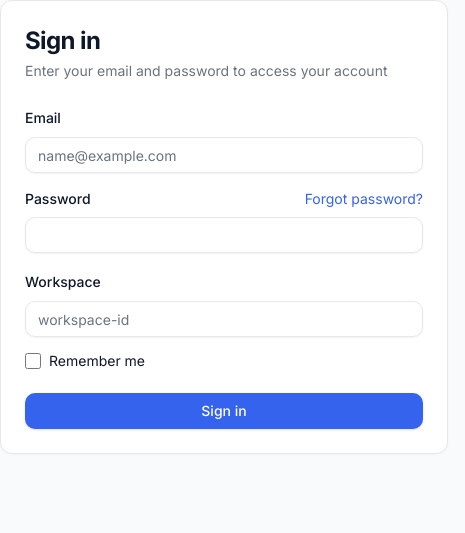
Test: LoginForm › accessibility › should render error alert with role="alert"
Type "test@example.com" into the field labelled "Email".
click(224, 155); type("test@example.com")  # box [25,137,423,173]
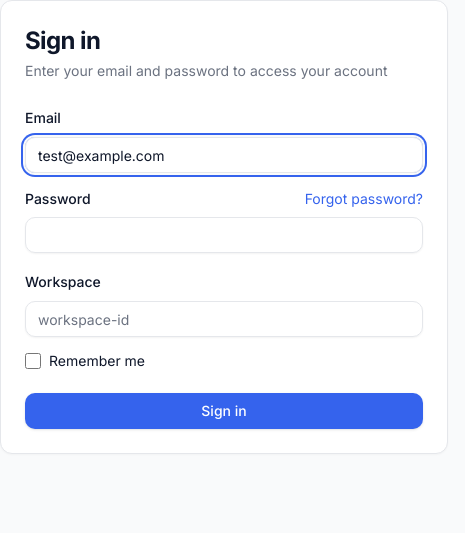
Type "password" into the password field labelled "Password".
click(224, 235); type("password")  # box [25,217,423,253]
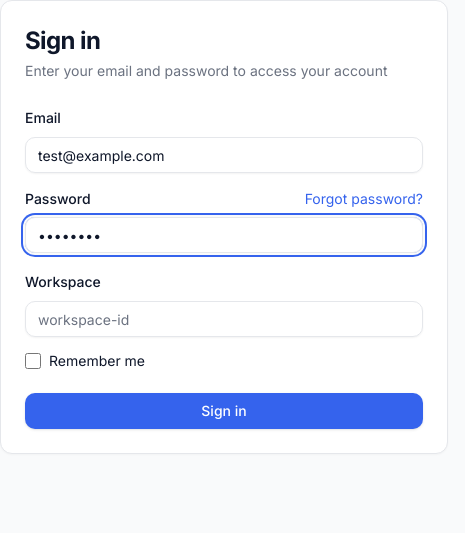
Type "tenant" into the field labelled "Workspace".
click(224, 319); type("tenant")  # box [25,301,423,337]
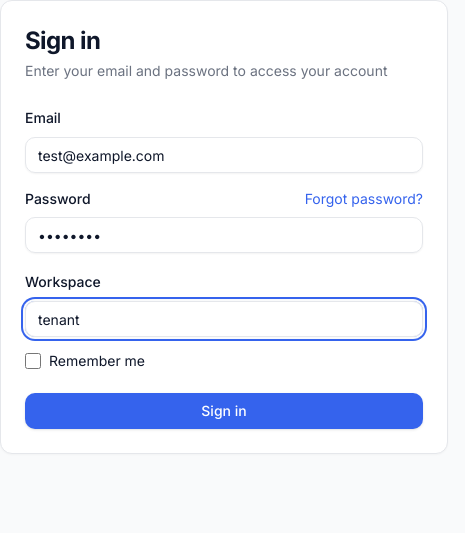
Click the button "Sign in".
click(224, 411)  # box [25,393,423,429]
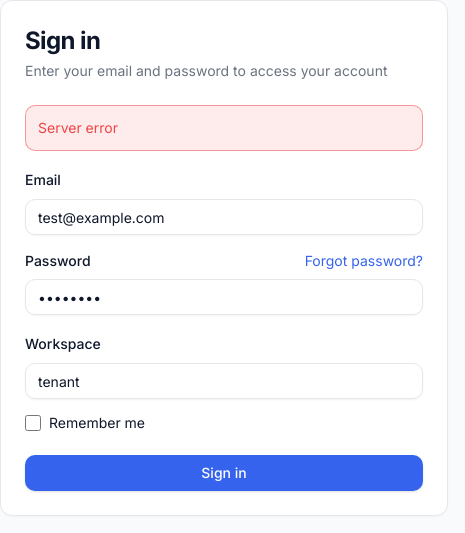
Result: the message "Server error" is shown at [25,105,423,151]
